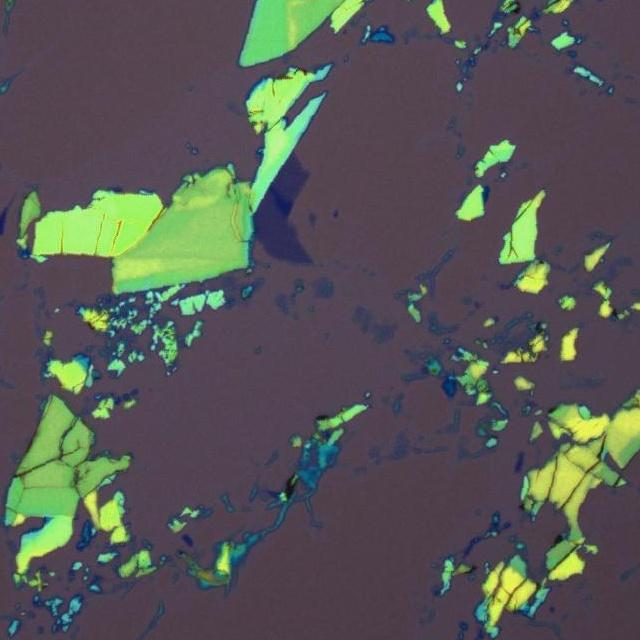monolayer-eWW4: (250, 192, 316, 266), (270, 154, 310, 204)
